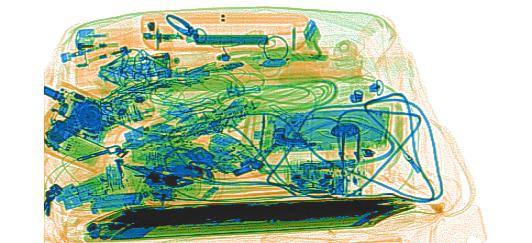USBFlashDisk: (53, 160, 145, 215)
battery: (191, 31, 271, 47)
lighter: (59, 33, 162, 73), (73, 26, 181, 60)
